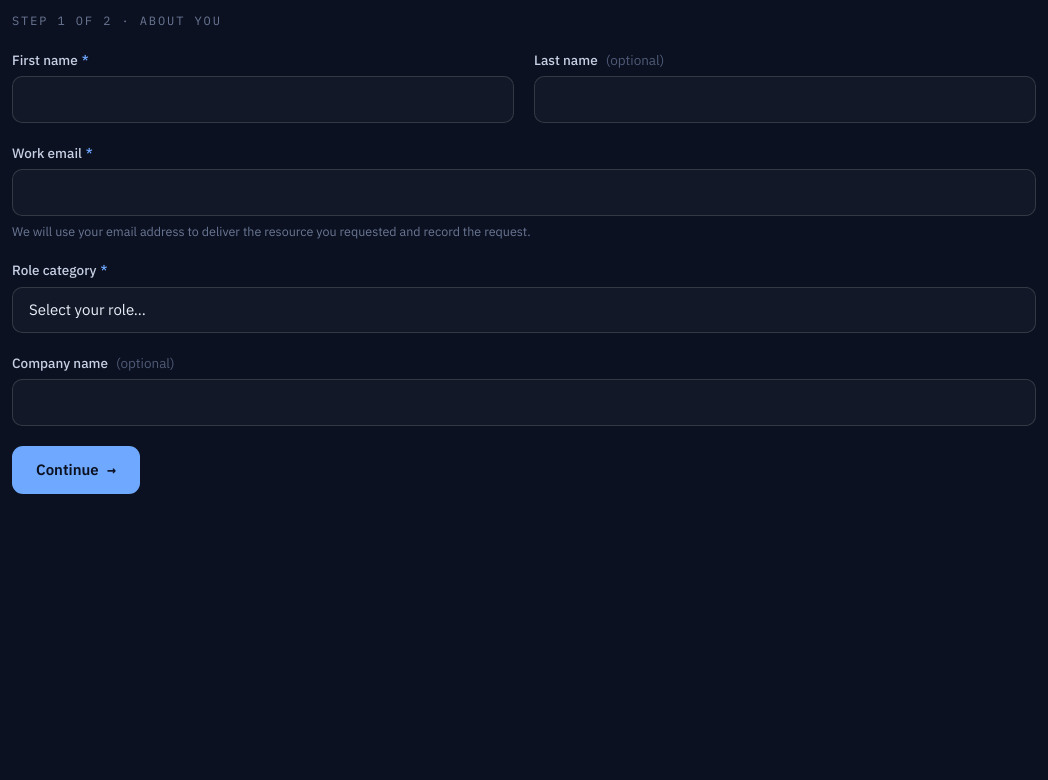
it: LeadMagnetForm › blocks step navigation until required fields are valid
Step 1. Click the button "Continue →" → (76, 470), box x1=12 y1=446 x2=140 y2=494
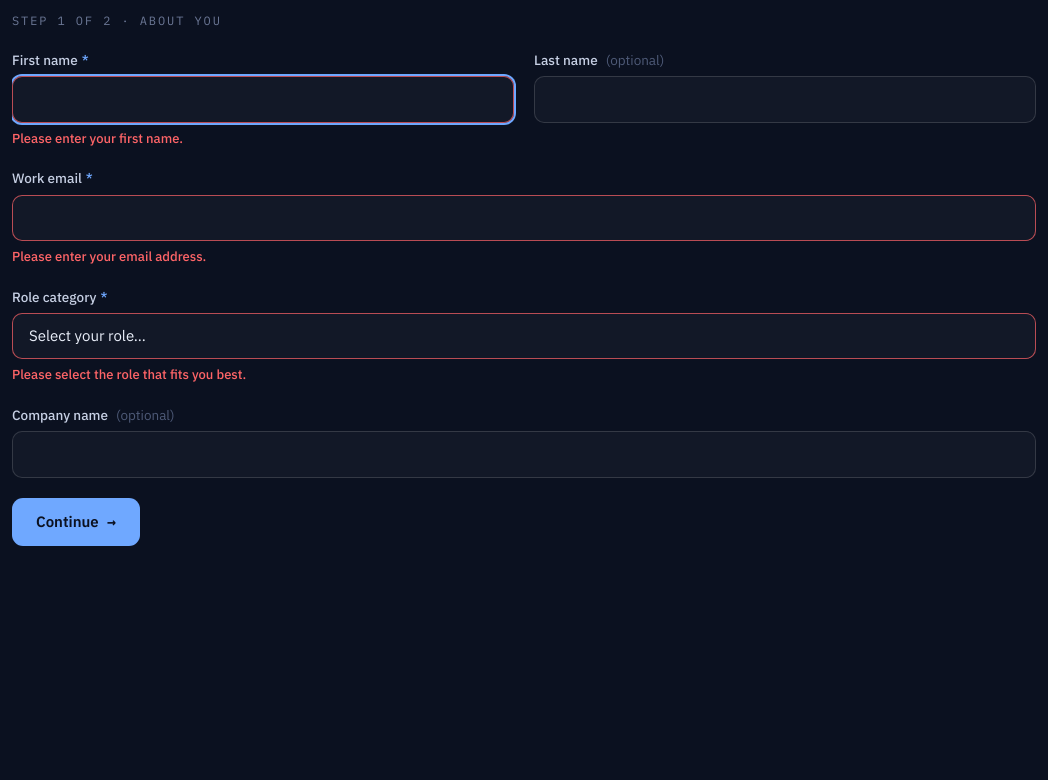
Expected: the text "Step 1 of 2 · About you" is shown, x1=12 y1=13 x2=222 y2=28
Expected: the text "Please enter your first name." is shown, x1=12 y1=130 x2=183 y2=147
Expected: the text "Please enter your email address." is shown, x1=12 y1=248 x2=206 y2=265
